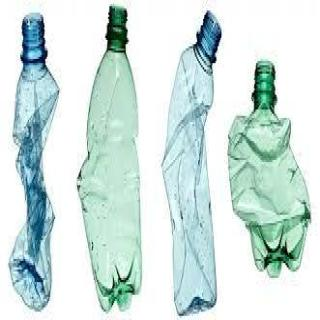Plastic-bottle: (76, 5, 148, 319), (160, 9, 225, 319), (227, 54, 313, 285), (8, 12, 65, 315)
